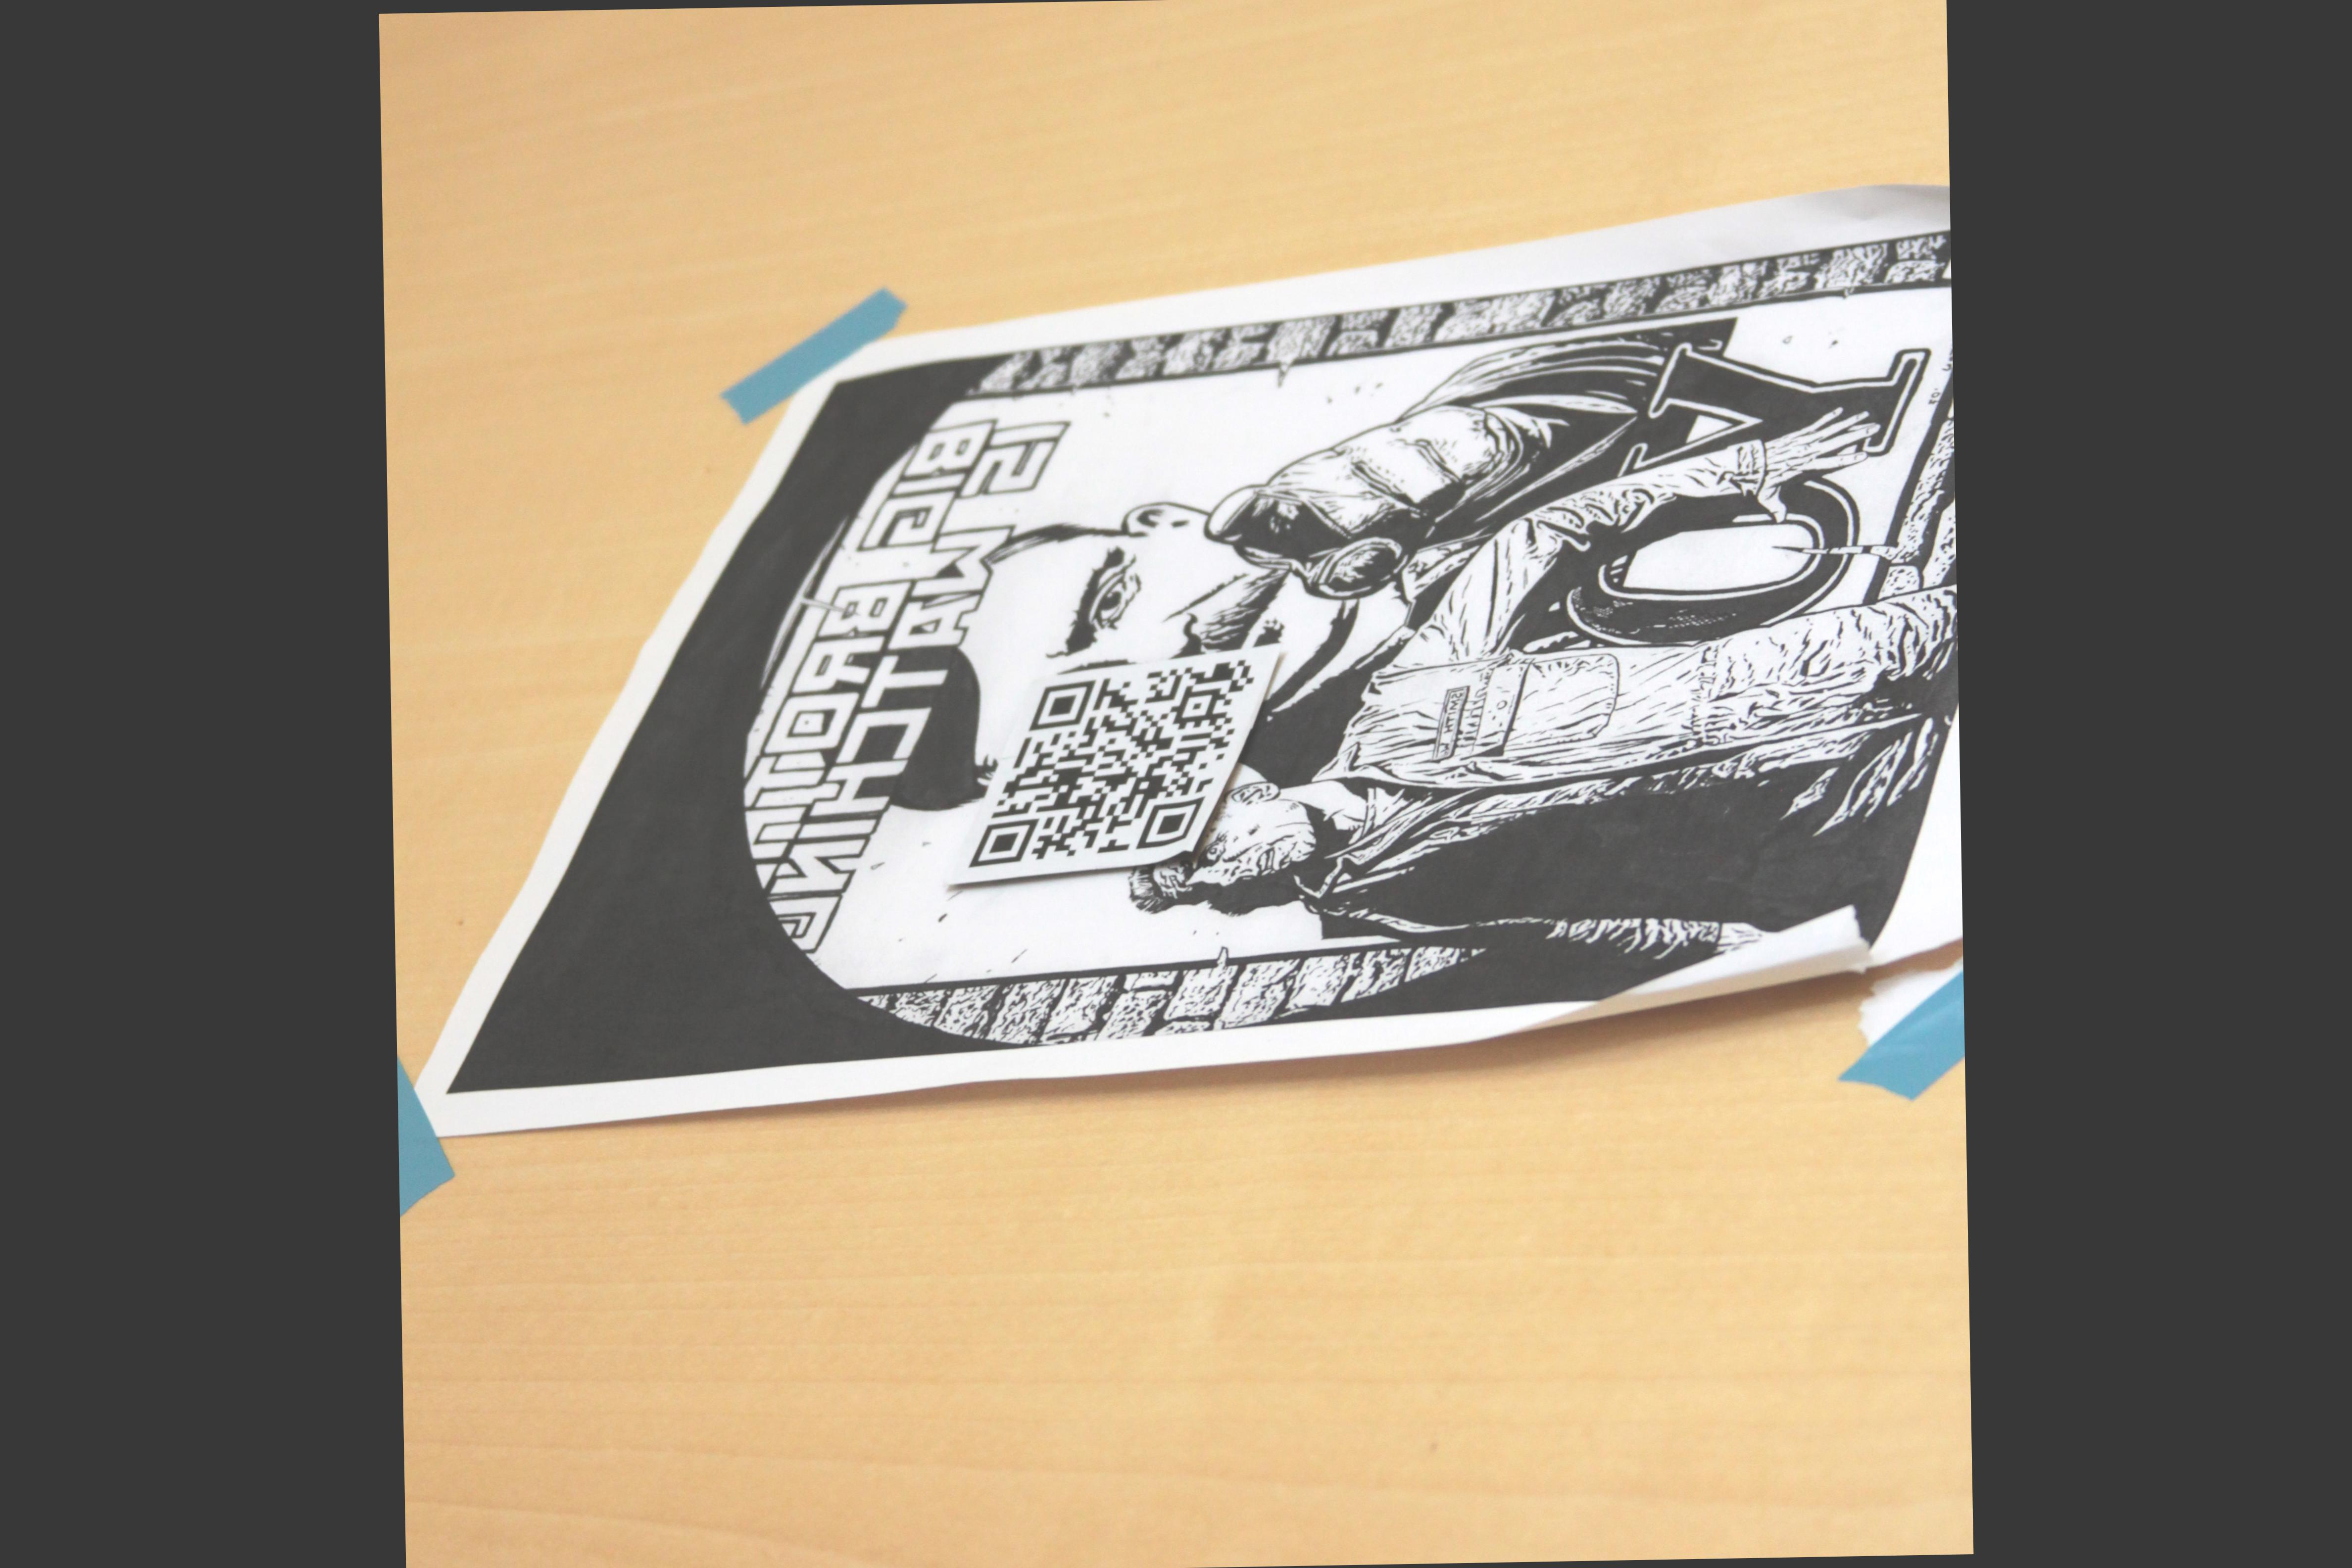QR: (947, 644, 1276, 878)
